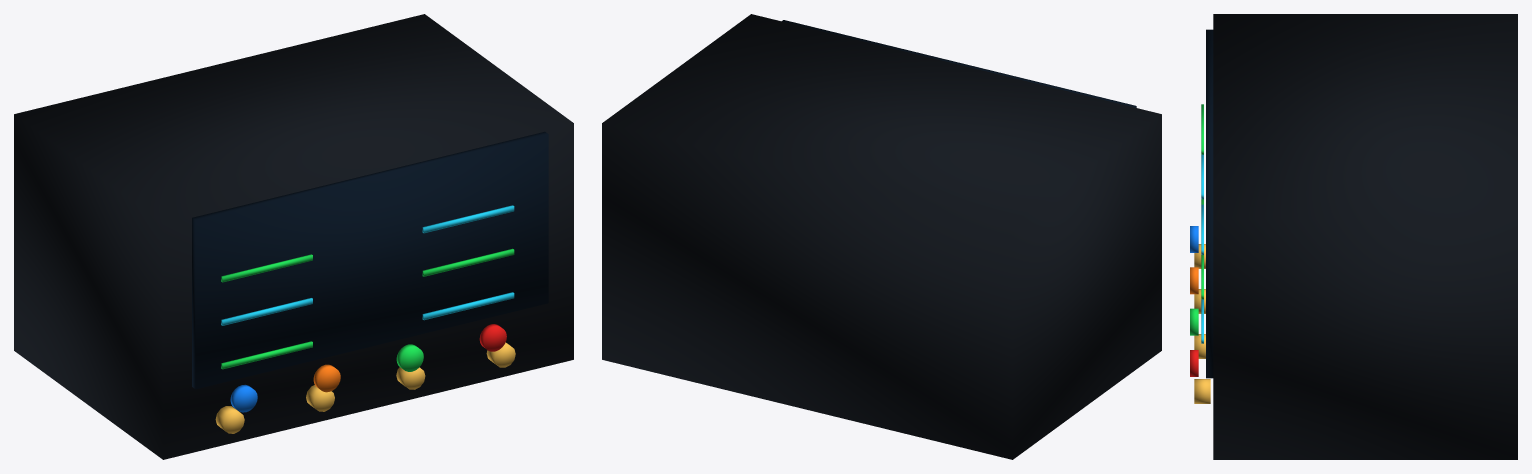
Rendered from 43_L94_BenchOscilloscope.fbx.
3 renders of one model, left to right at view 1: azimuth 30°, elevation 25°; view 2: azimuth 150°, elevation 25°; view 3: azimuth 270°, elevation 25°, orthographic. The views are drawn at different scales.
Visible parts, largest first — view 1: L94_BenchOscilloscope; view 2: L94_BenchOscilloscope; view 3: L94_BenchOscilloscope.
Part boxes in pixels (<box>): L94_BenchOscilloscope: <box>14,14,573,459</box>; L94_BenchOscilloscope: <box>602,14,1161,459</box>; L94_BenchOscilloscope: <box>1190,14,1517,459</box>.
Size of the model in its own units: 89 by 49 by 60.3.
